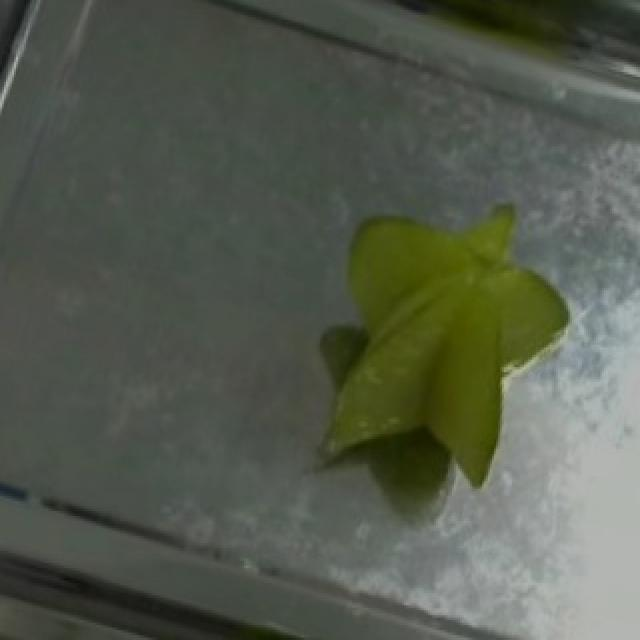fruit: (294, 169, 604, 506)
